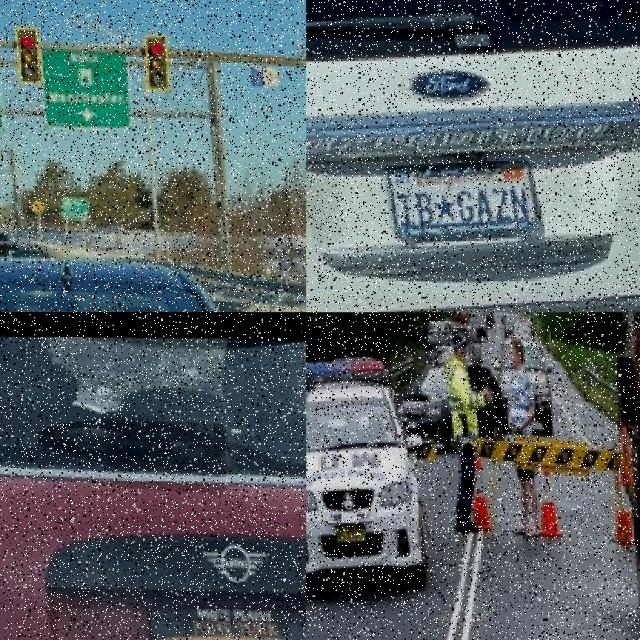licenseplate: (383, 152, 546, 236), (149, 604, 306, 640), (337, 521, 367, 542)
